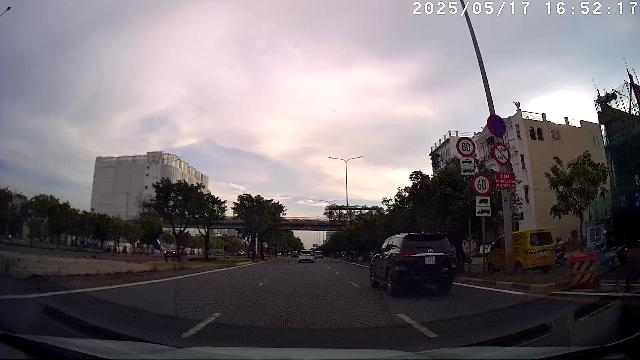127-toc-do-toi-da-60: (471, 173, 492, 196)
127-toc-do-toi-da-80: (456, 136, 476, 157)
